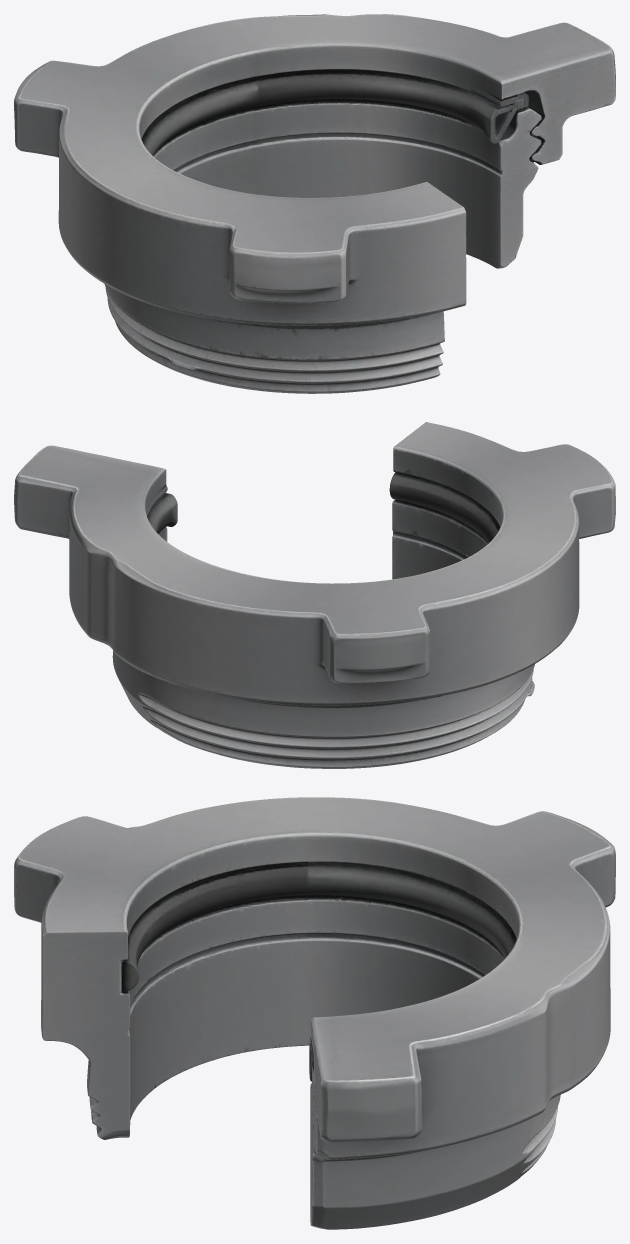
File: UnionDeGolpeFiguraTank.glb
3 views of the same model, one above another, from view 1: azimuth 30°, elevation 25°; view 2: azimuth 150°, elevation 25°; view 3: azimuth 270°, elevation 25° (orthographic). The views are drawn at different scales.
Parts seen in each view (by area): view 1: tripo_node_a9af4915-4327-4217-9643-d942ea32557a; view 2: tripo_node_a9af4915-4327-4217-9643-d942ea32557a; view 3: tripo_node_a9af4915-4327-4217-9643-d942ea32557a.
Part boxes in pixels (x1,y1,x2,y2): tripo_node_a9af4915-4327-4217-9643-d942ea32557a: (14,14,615,393); tripo_node_a9af4915-4327-4217-9643-d942ea32557a: (14,422,615,768); tripo_node_a9af4915-4327-4217-9643-d942ea32557a: (14,797,615,1229).
Size of the model in its own units: 0.9794 by 0.3335 by 0.8657.
Materials: 1 (1 with a texture image).
